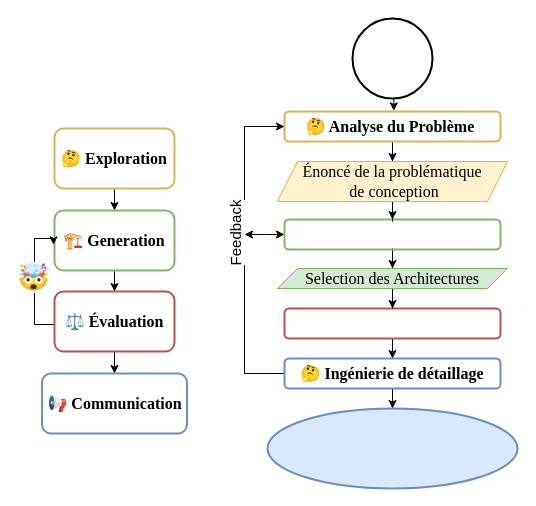
This 536x506 diagram has some shape labels left out. The box of each missing label's shape, as (x1, y1, x2, y2) in pixels:
Besoin: (351, 17, 433, 99)
Dessins techniques Modèles CAO Simulations, etc..: (266, 407, 518, 489)
⚖️ Embodiment design: (283, 307, 501, 339)
🏗️ Design conceptuel: (283, 218, 501, 250)
